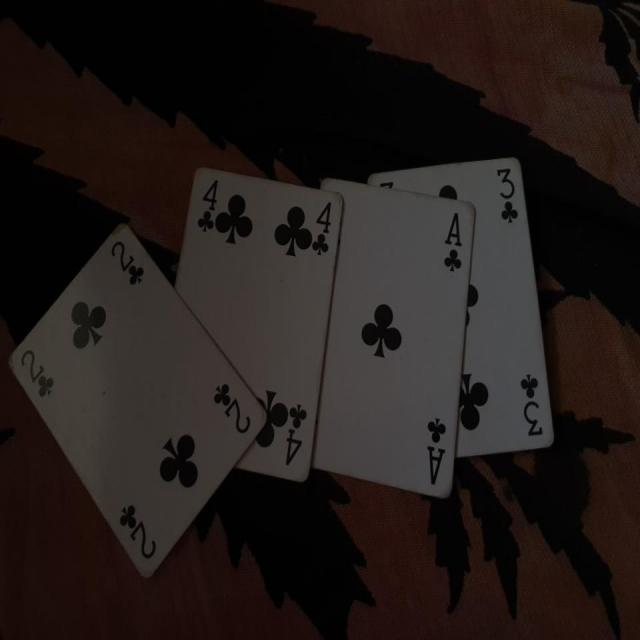2 Trefoils: (7, 222, 266, 582)
3 Trefoils: (368, 155, 557, 457)
4 Trefoils: (172, 165, 350, 487)
A Trefoils: (313, 178, 477, 506)
